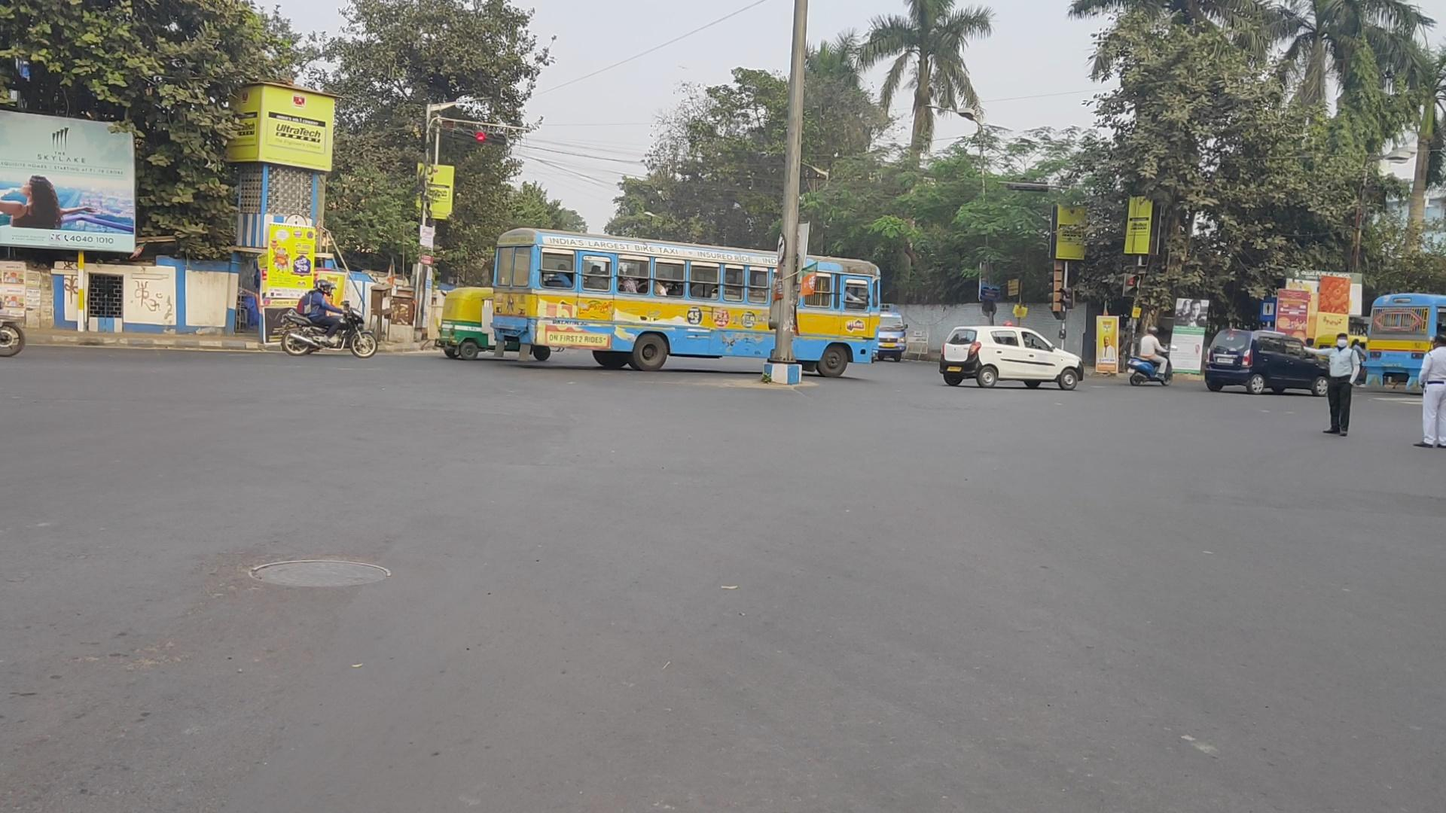Auto: (435, 286, 551, 361)
Bus: (492, 227, 881, 378), (1362, 293, 1446, 395)
bike: (273, 279, 377, 360), (1126, 324, 1178, 388)
car: (939, 326, 1084, 391), (1204, 327, 1333, 397)
van: (879, 302, 909, 367)
